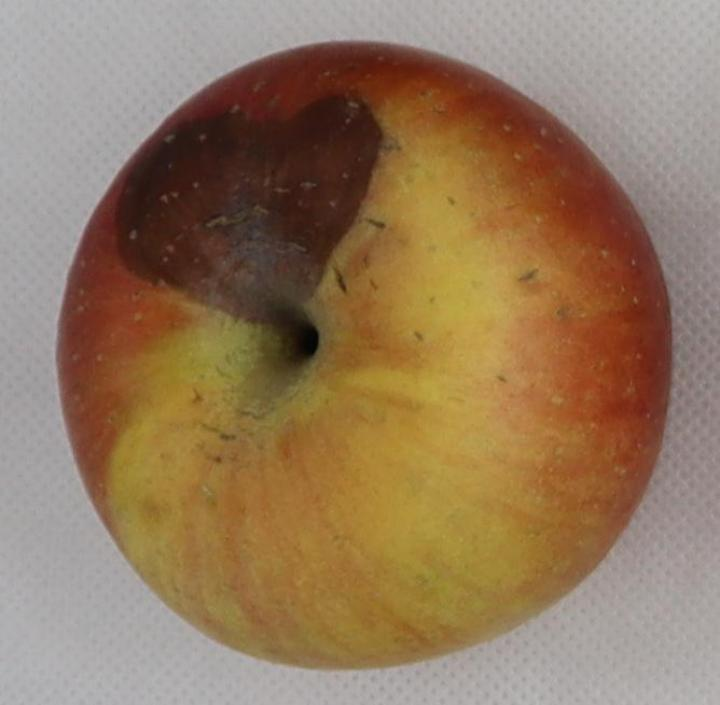apple: (57, 43, 669, 667)
rot_mold_decay: (116, 93, 383, 330)
